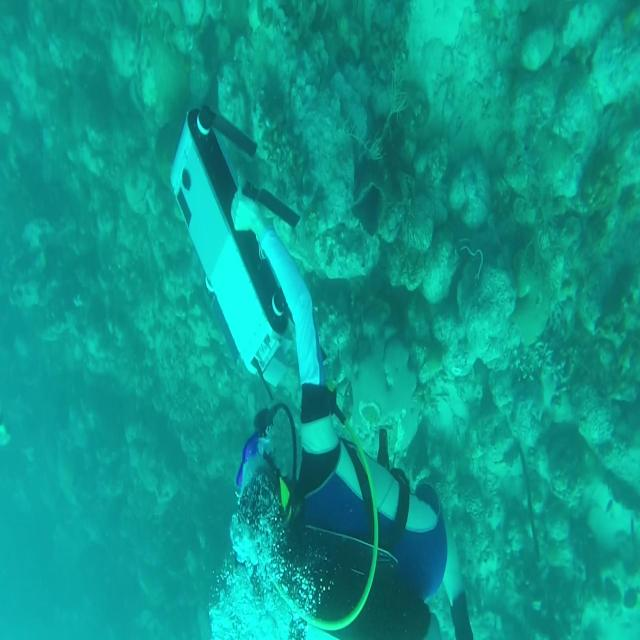human: (169, 103, 474, 638)
